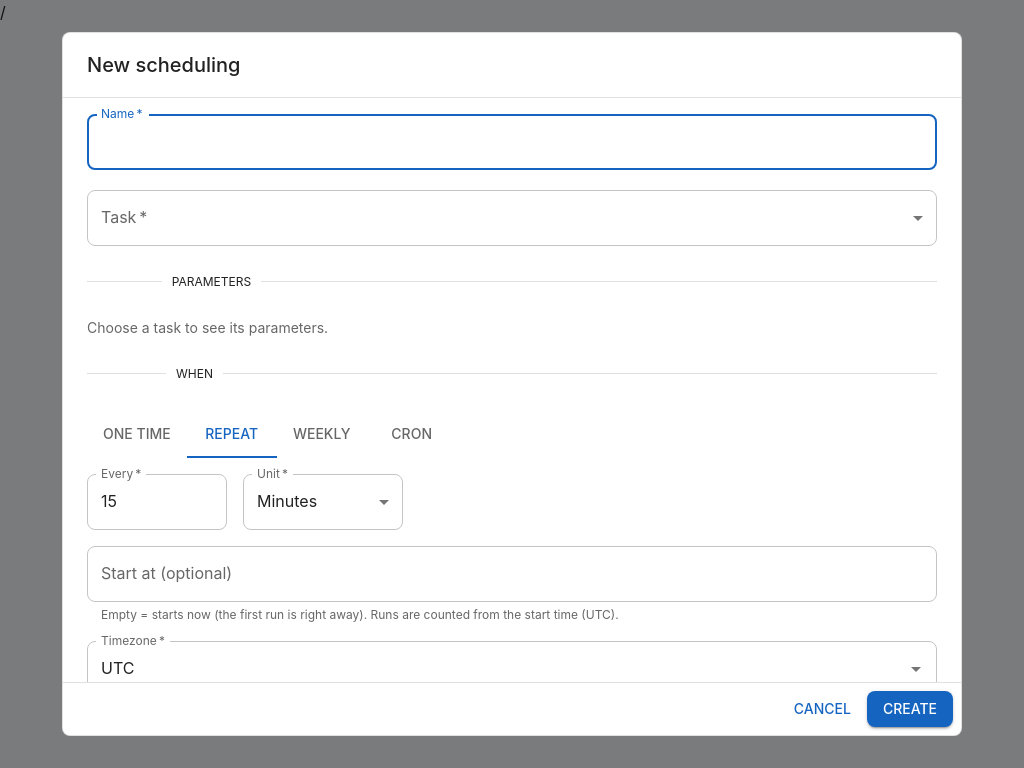
SchedulingFormDialog — create › shows server validation errors under the fields, and the rest in a banner
The image size is (1024, 768).
Type "Nightly log" into the field labelled "Name *" at (512, 142), box top-left (87, 114), bottom-right (937, 170)
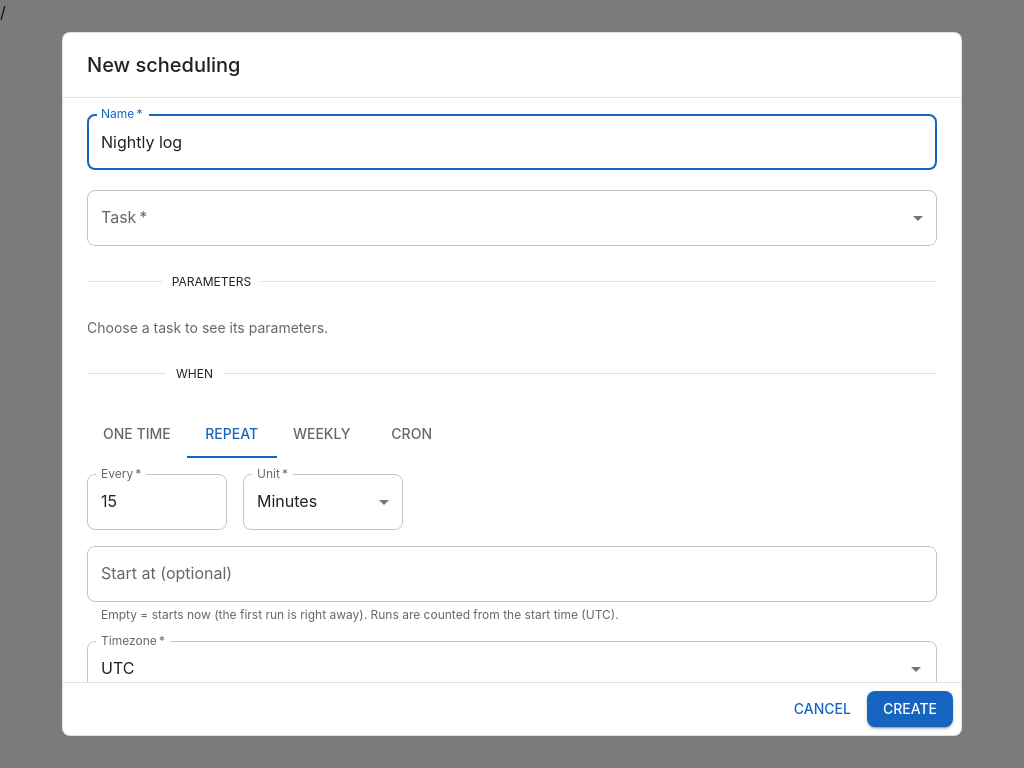
Click the dropdown named "task" at (512, 218), box top-left (87, 190), bottom-right (937, 246)
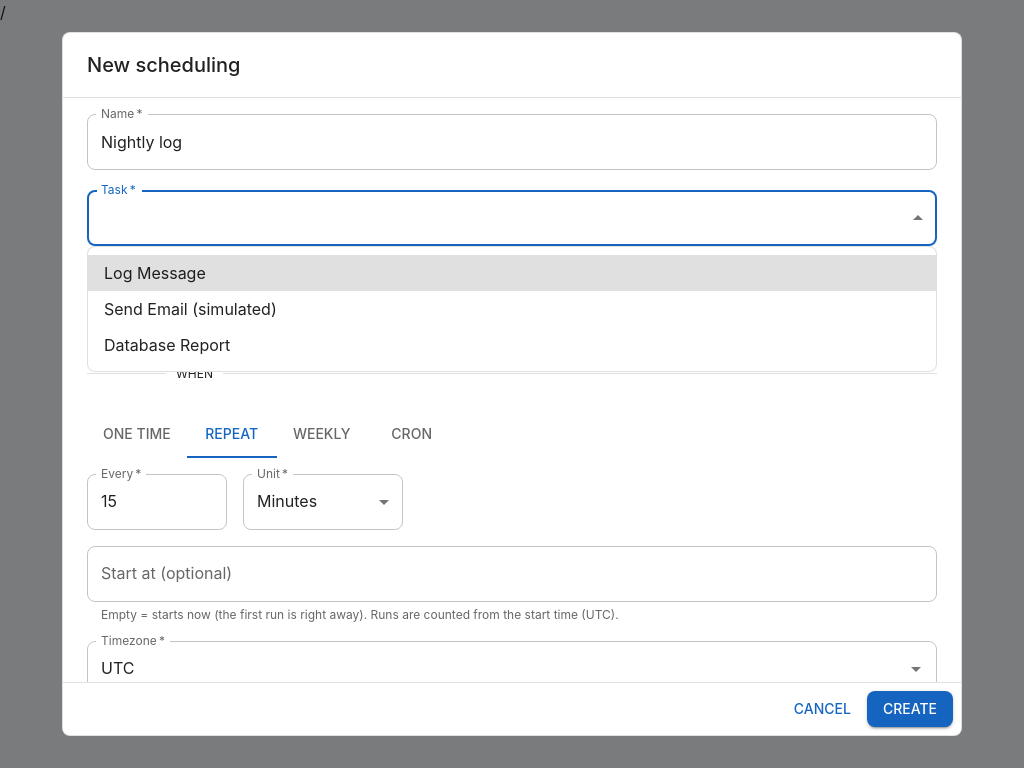
Click the option "Log Message" at (155, 273), box top-left (88, 255), bottom-right (936, 291)
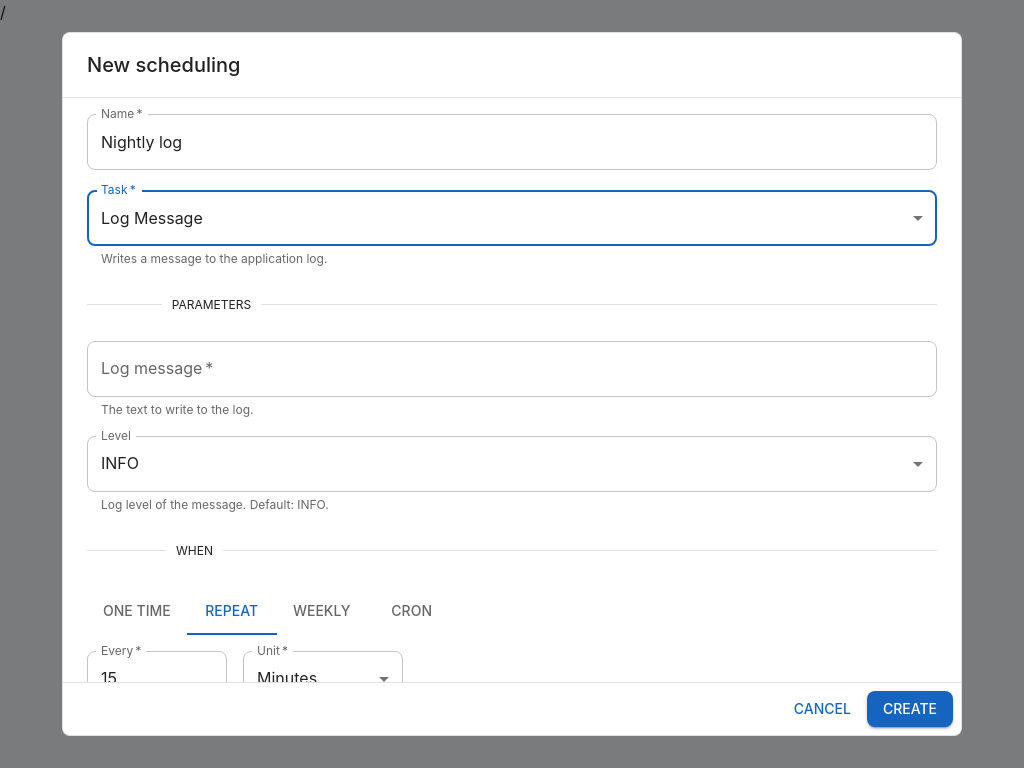
Type "Hello world" into the field labelled "Log message *" at (512, 369), box top-left (87, 341), bottom-right (937, 397)
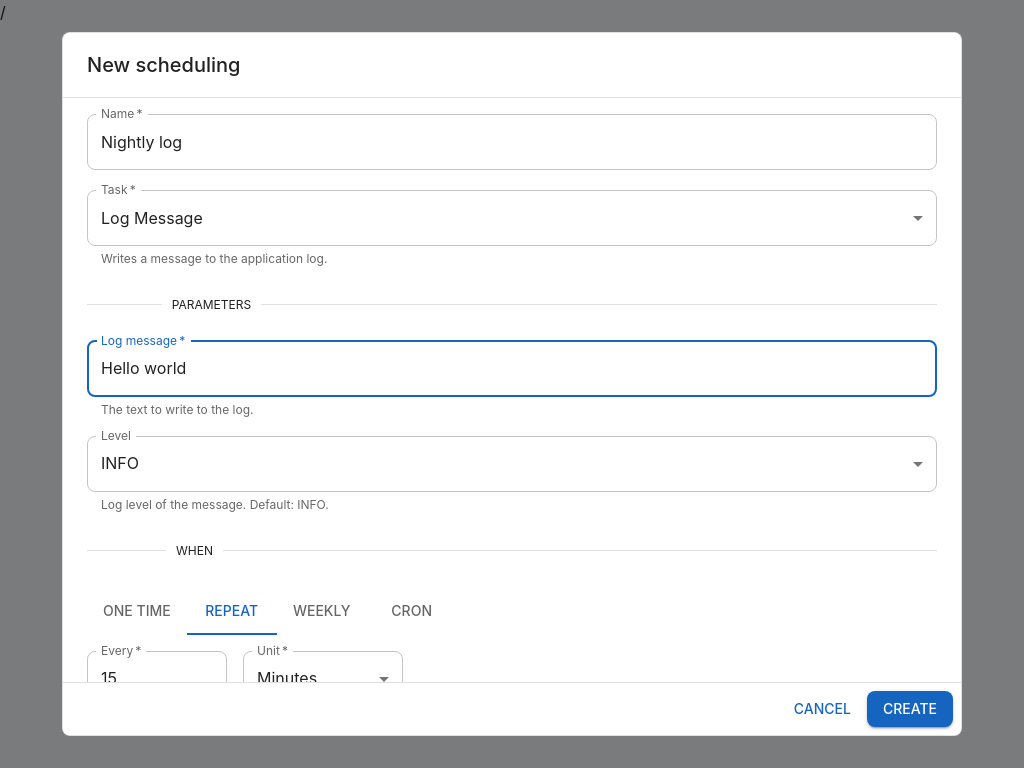
Click the button "Create" at (910, 709), box top-left (867, 690), bottom-right (953, 727)
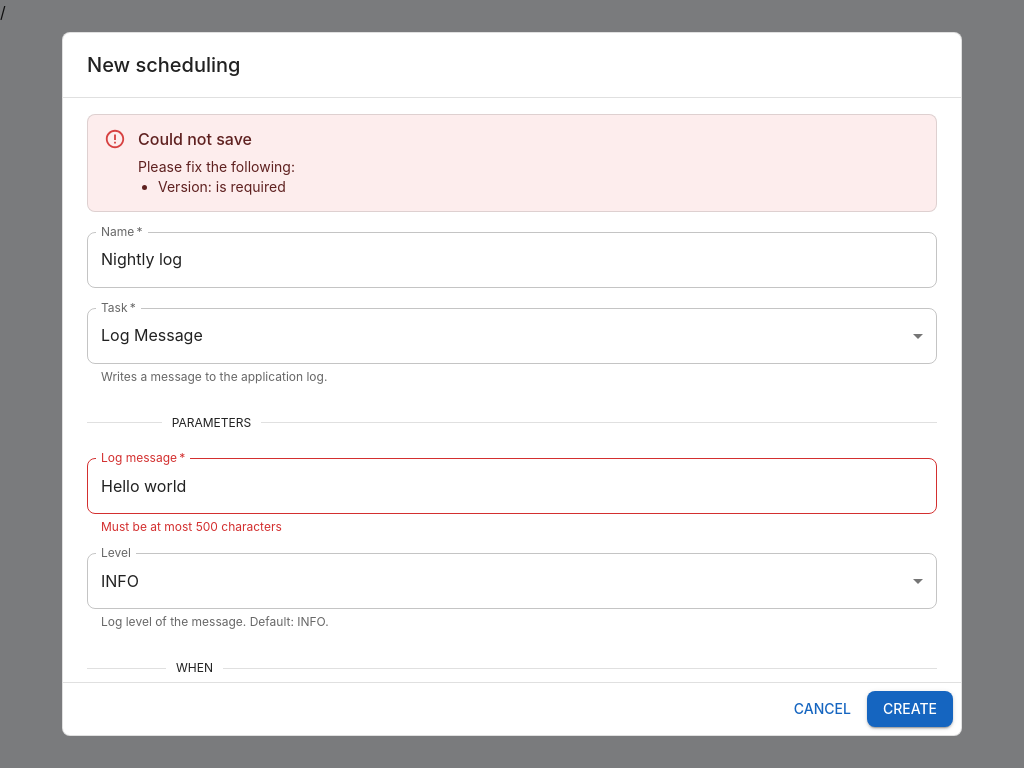
Now the text "Must be at most 500 characters" is shown, box top-left (101, 519), bottom-right (282, 534)
Now the list item "Version: is required" is shown, box top-left (158, 177), bottom-right (295, 197)
